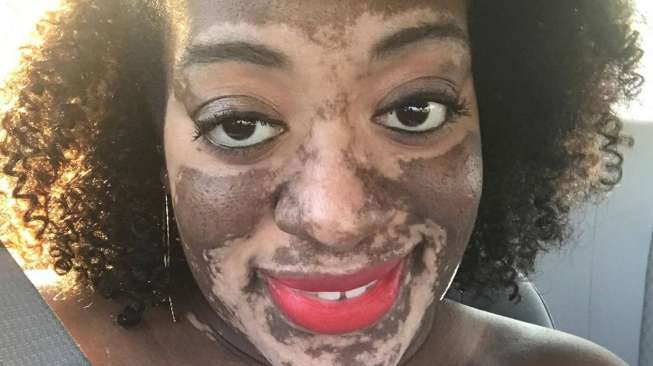Vitiligo: (169, 10, 490, 366)
